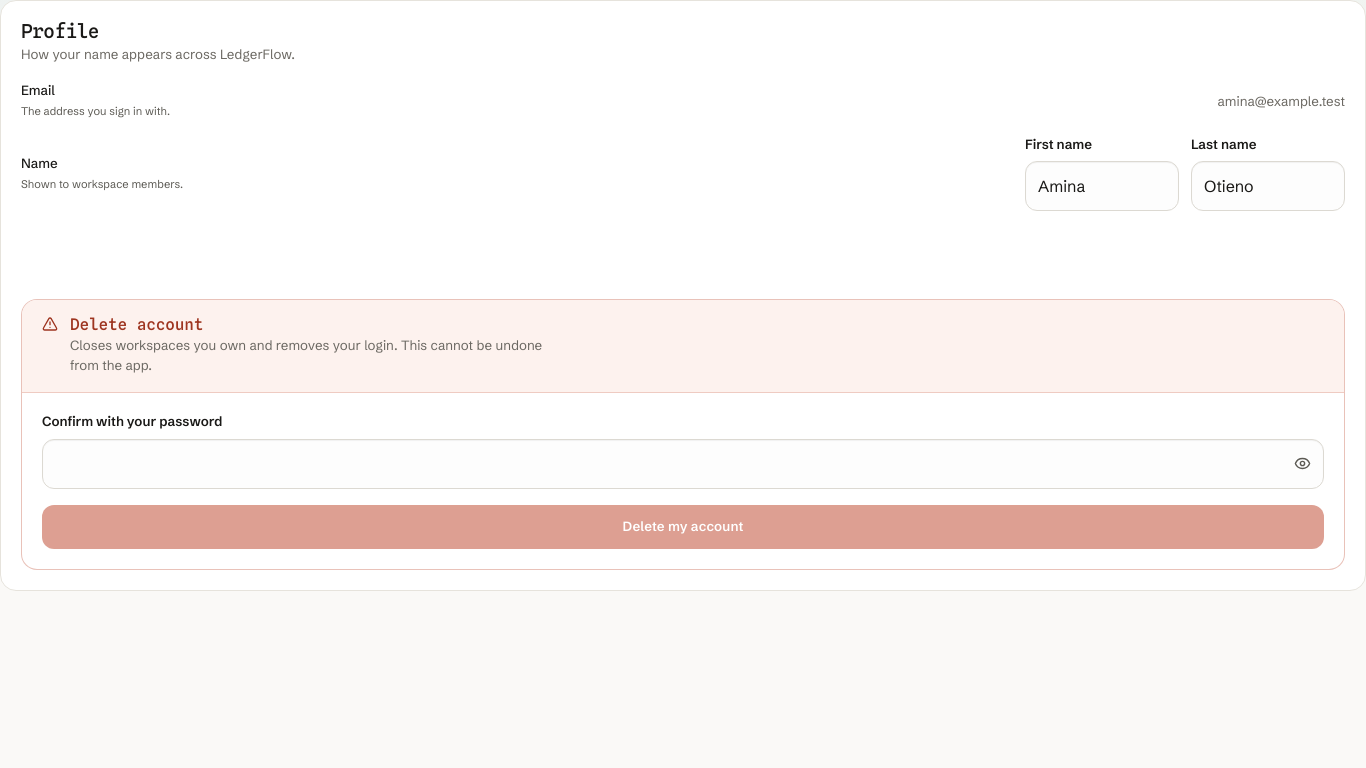
Test: ProfilePanel autosave › ignores a stale response that lands after a newer one
Type "!" into the field labelled "First name" at (1102, 186), box [1025,161,1179,211]
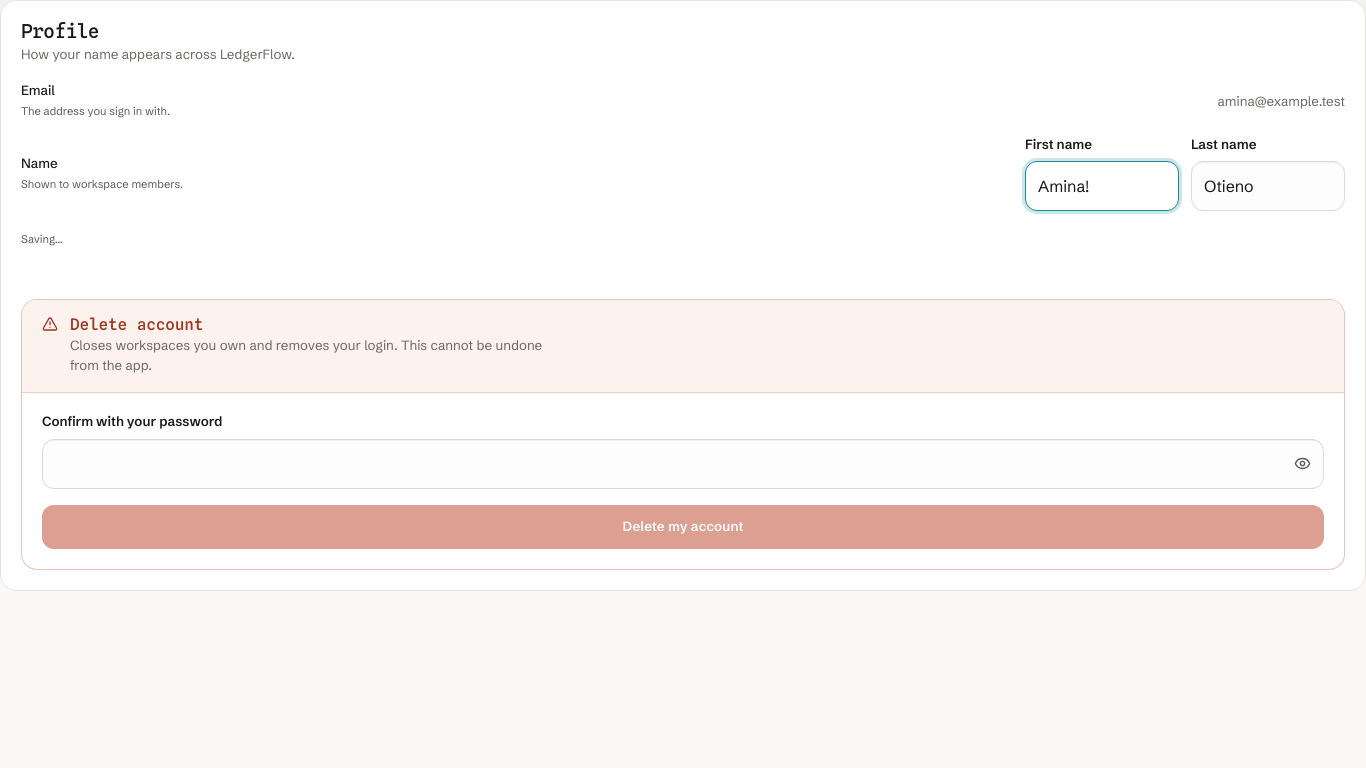
Type "?" into the field labelled "First name" at (1102, 186), box [1025,161,1179,211]
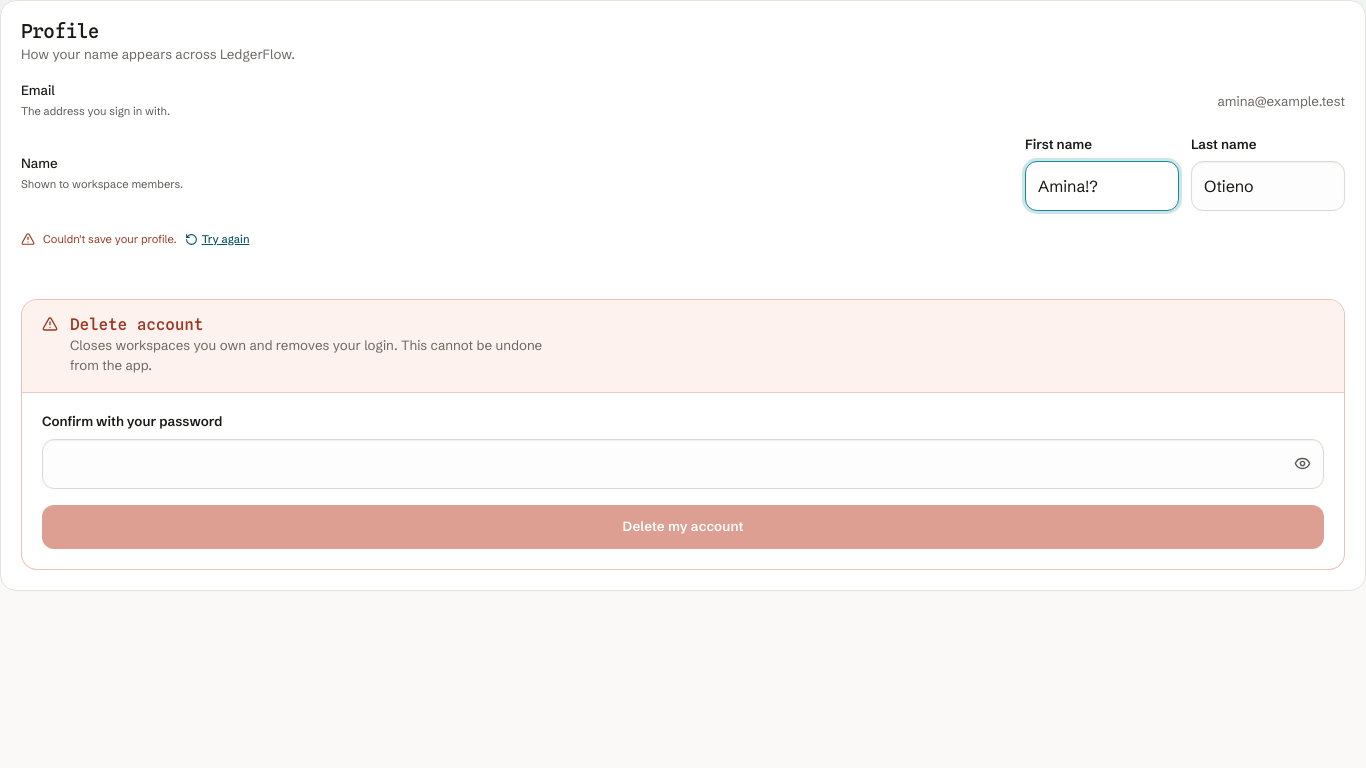
Now the message "Couldn't save your profile. Try again" is shown, box [21,231,250,247]
